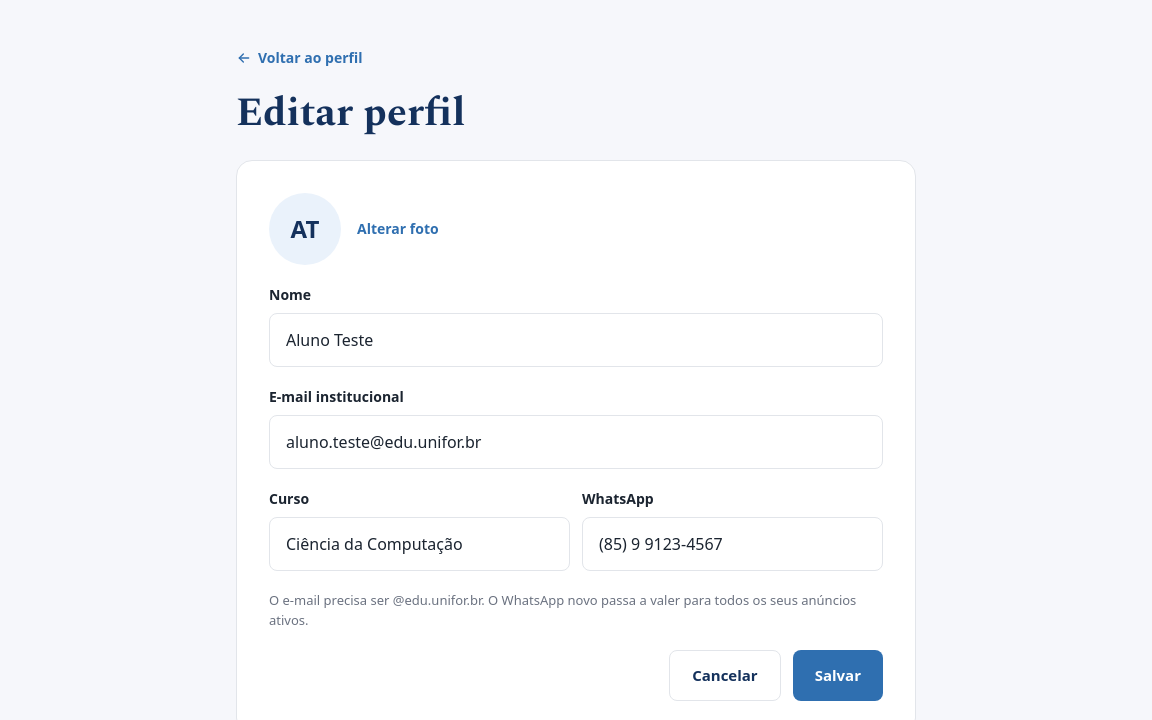
Editar perfil (05b) › salva e volta ao perfil com o nome novo e o aviso de sucesso
This screenshot has width=1152, height=720.
Replace the text in the field labelled "Nome" with "Maria Souza" at (576,340), box [269, 313, 883, 367]
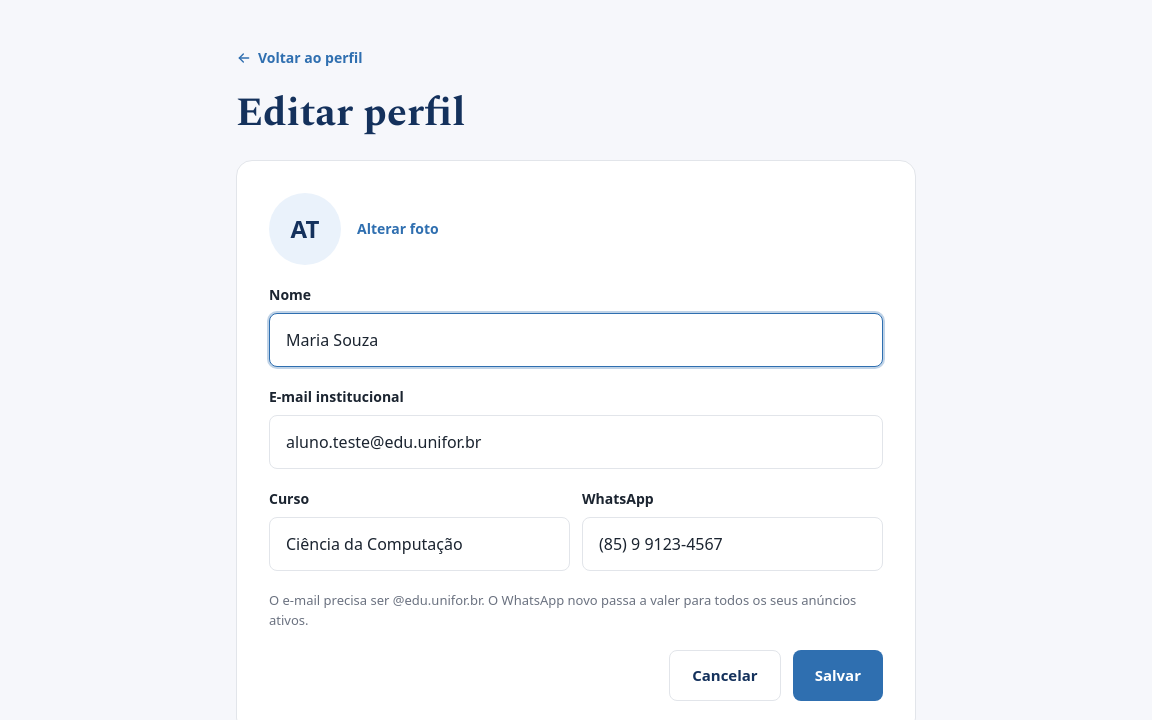
Click the button "Salvar" at (838,676), box [793, 650, 883, 701]
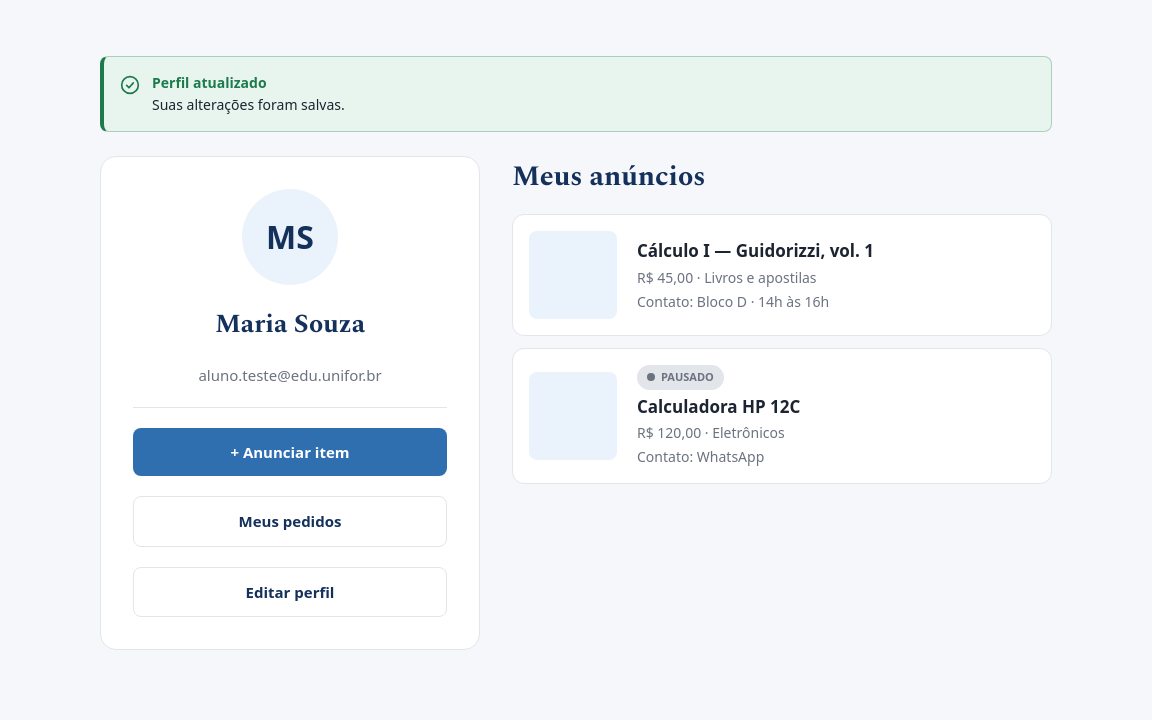
Check: the heading "Maria Souza" is shown, box [215, 305, 365, 344]
Check: the text "Perfil atualizado" is shown, box [152, 73, 267, 92]
